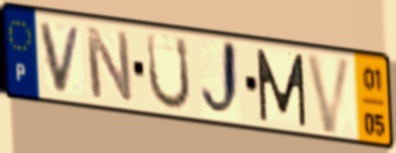J: (198, 37, 244, 122)
M: (254, 46, 309, 129)
N: (82, 23, 136, 105)
U: (144, 30, 193, 113)
V: (303, 51, 355, 137), (37, 20, 85, 96)
